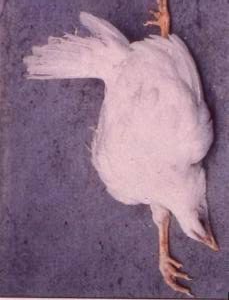Unhealthy: (21, 4, 218, 298)
